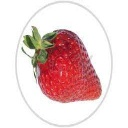strawberry: (18, 26, 102, 104)
